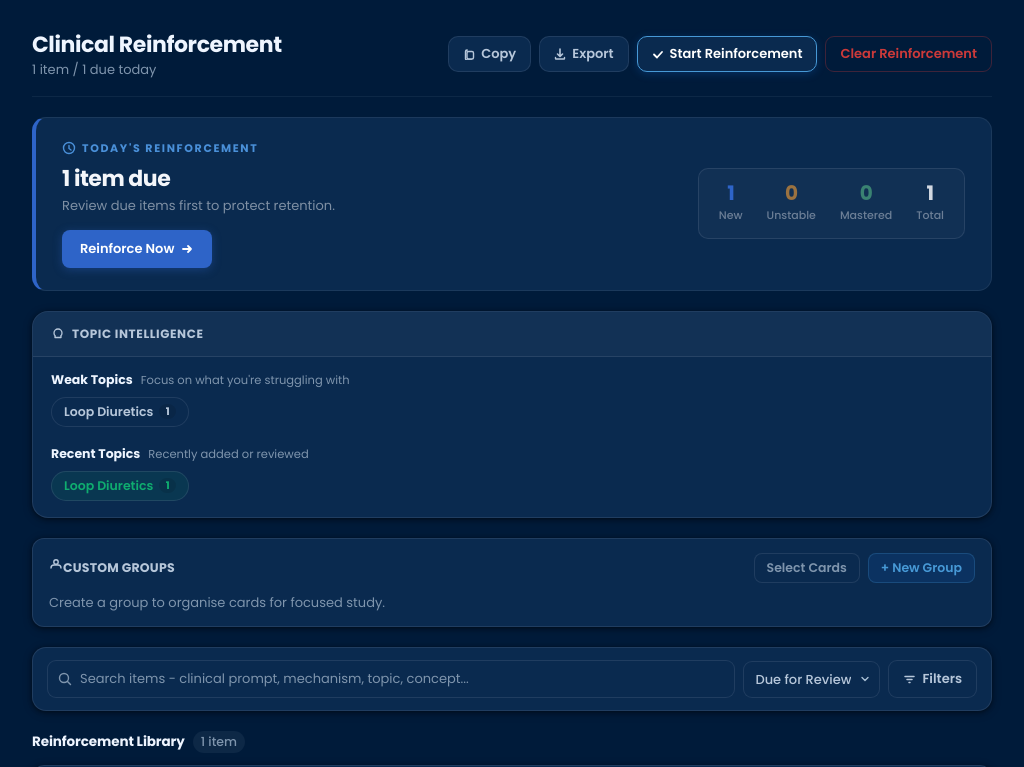
Test: FlashcardsPage - review mode › shows a high-yield recall label on the card front
What coordinates should you click on to do the following:
click the button "Reinforce Now"
I would click on:
 (137, 249)
Its box is [62,230,212,268].
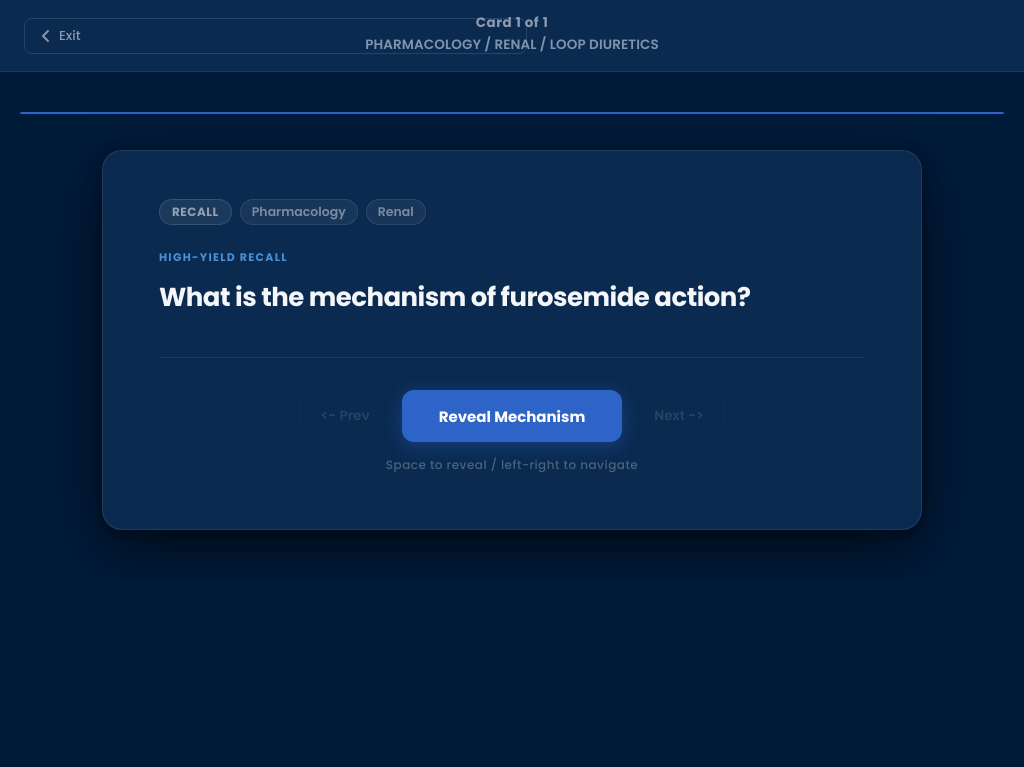
Expected: the text "High-Yield Recall" is shown, [159,249,288,265]
